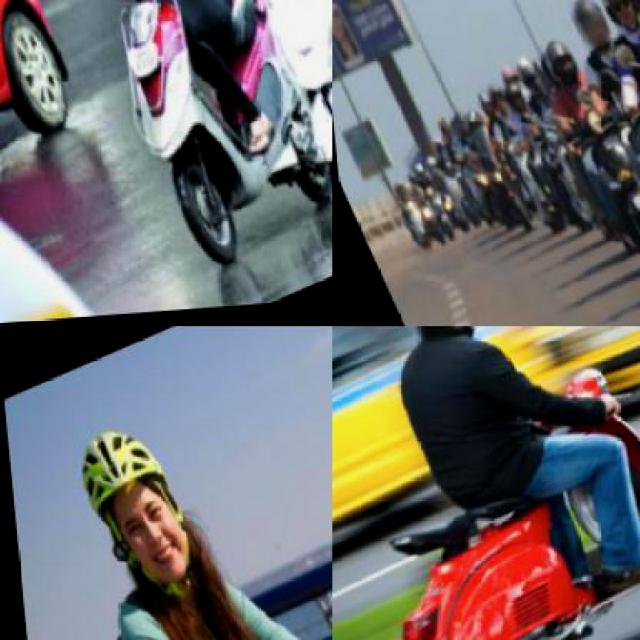With Helmet: (56, 412, 213, 611), (384, 326, 484, 360), (560, 0, 611, 58), (535, 37, 579, 94), (586, 0, 639, 45), (494, 77, 526, 120), (476, 79, 509, 119), (466, 88, 494, 124)
